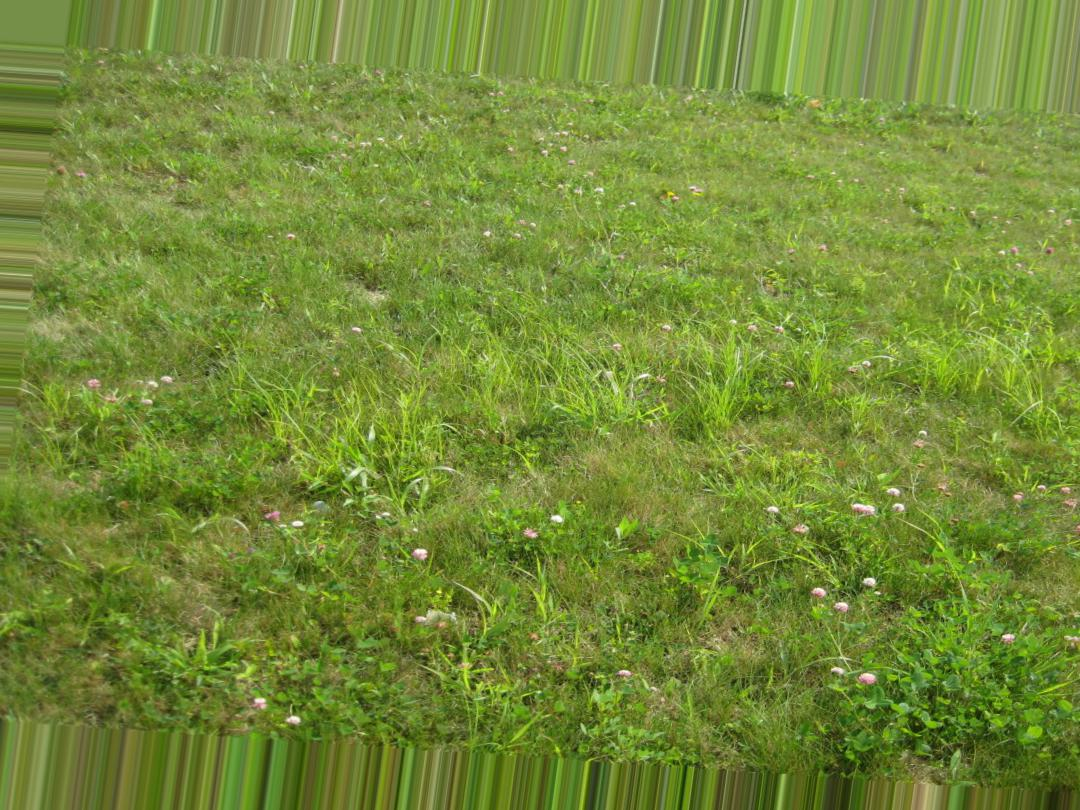patch: (554, 452, 611, 476)
